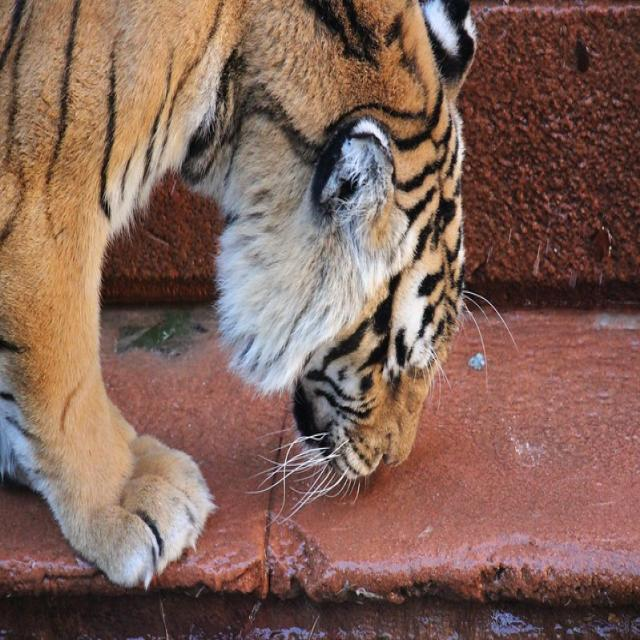Tiger: (0, 0, 479, 587)
